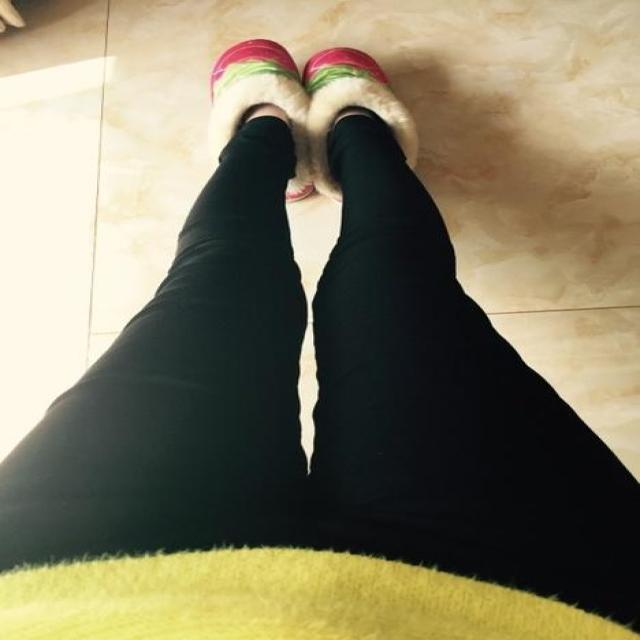trousers: (72, 114, 633, 552)
